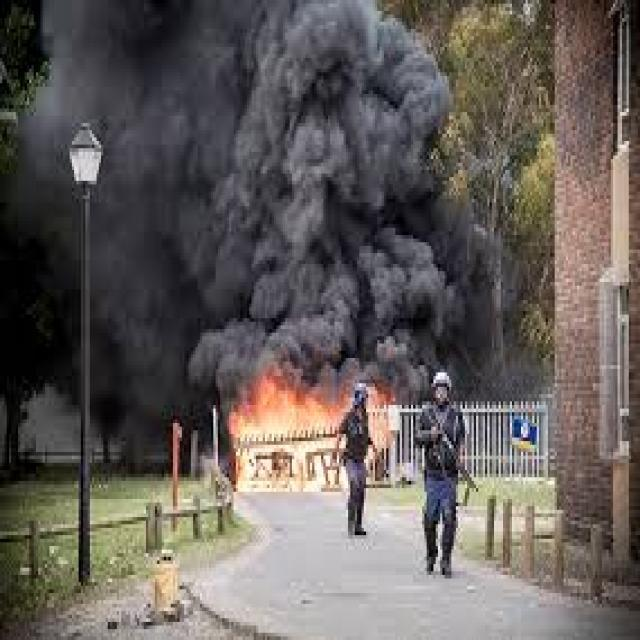Fire: (230, 373, 390, 491)
Smoke: (102, 1, 448, 372), (17, 0, 102, 320), (450, 204, 503, 400), (504, 342, 544, 399)
